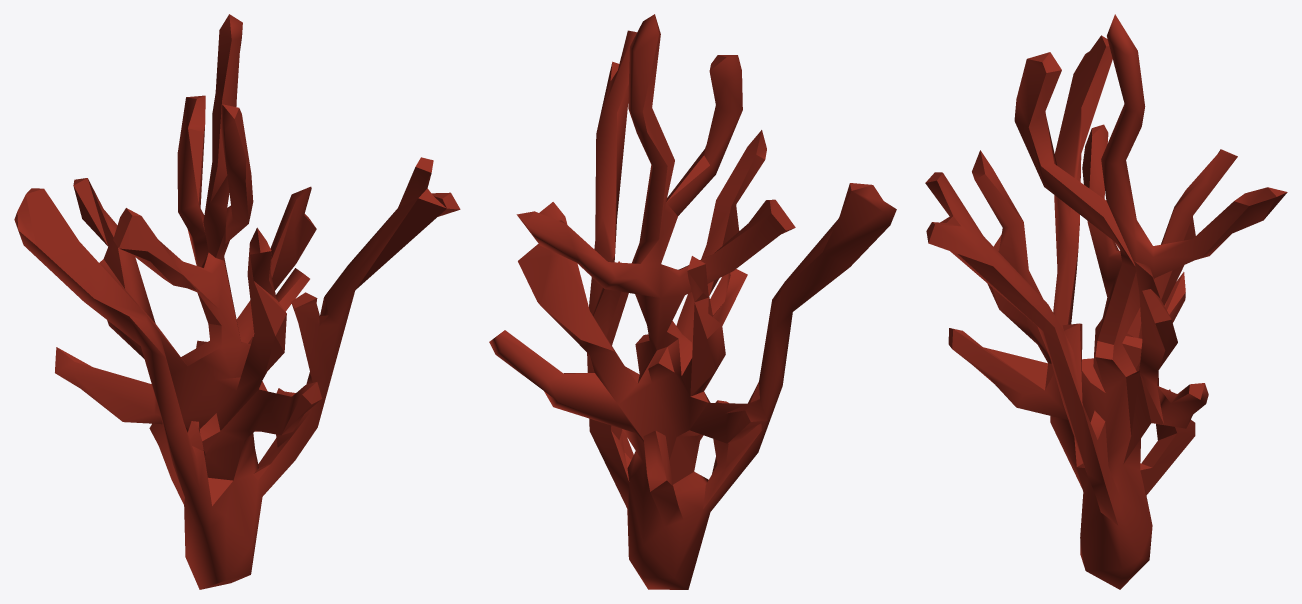
File: M_Coral_Branches 1.fbx
The picture shows the model from 3 angles, left to right: view 1: azimuth 30°, elevation 25°; view 2: azimuth 150°, elevation 25°; view 3: azimuth 270°, elevation 25°; orthographic projection.
Parts seen in each view (by area): view 1: coral_branches; view 2: coral_branches; view 3: coral_branches.
Boxes of the visible parts, x1=… form: coral_branches: x1=14, y1=14, x2=460, y2=589; coral_branches: x1=489, y1=14, x2=896, y2=589; coral_branches: x1=925, y1=14, x2=1287, y2=589.
Bounding box in the file's own units: 12.42 × 18.64 × 10.67.
